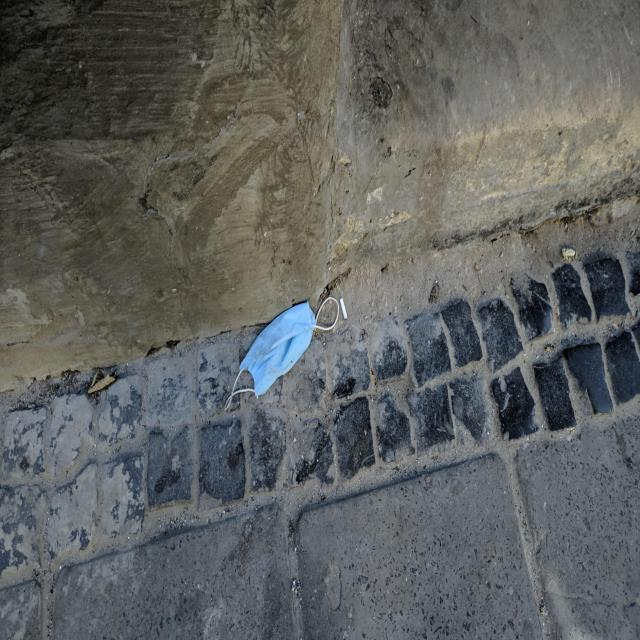litter: (225, 296, 339, 411), (340, 298, 348, 320)
